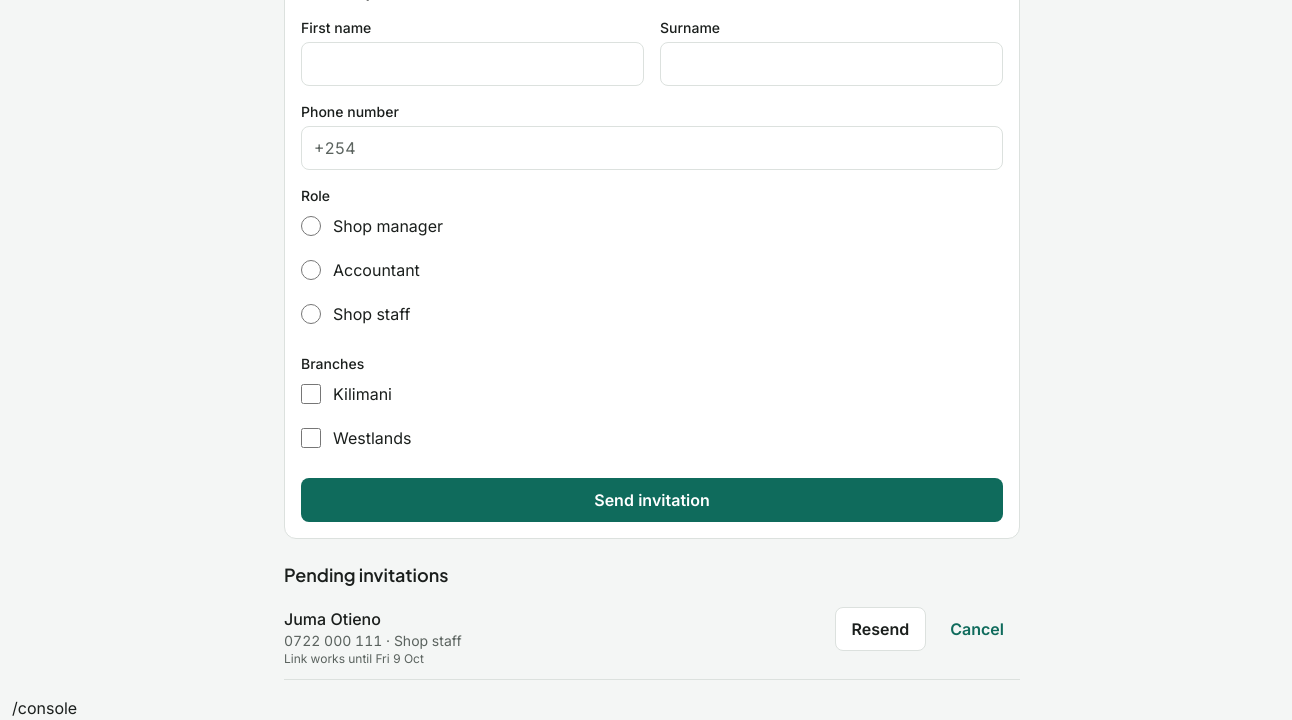
Test: A-41 invite form › checks names, the number and the role before sending
(page scrolled)
What coordinates should you click on to do the following:
click the button "Send invitation"
I would click on:
 (652, 500)
Its box is [301,478,1003,522].
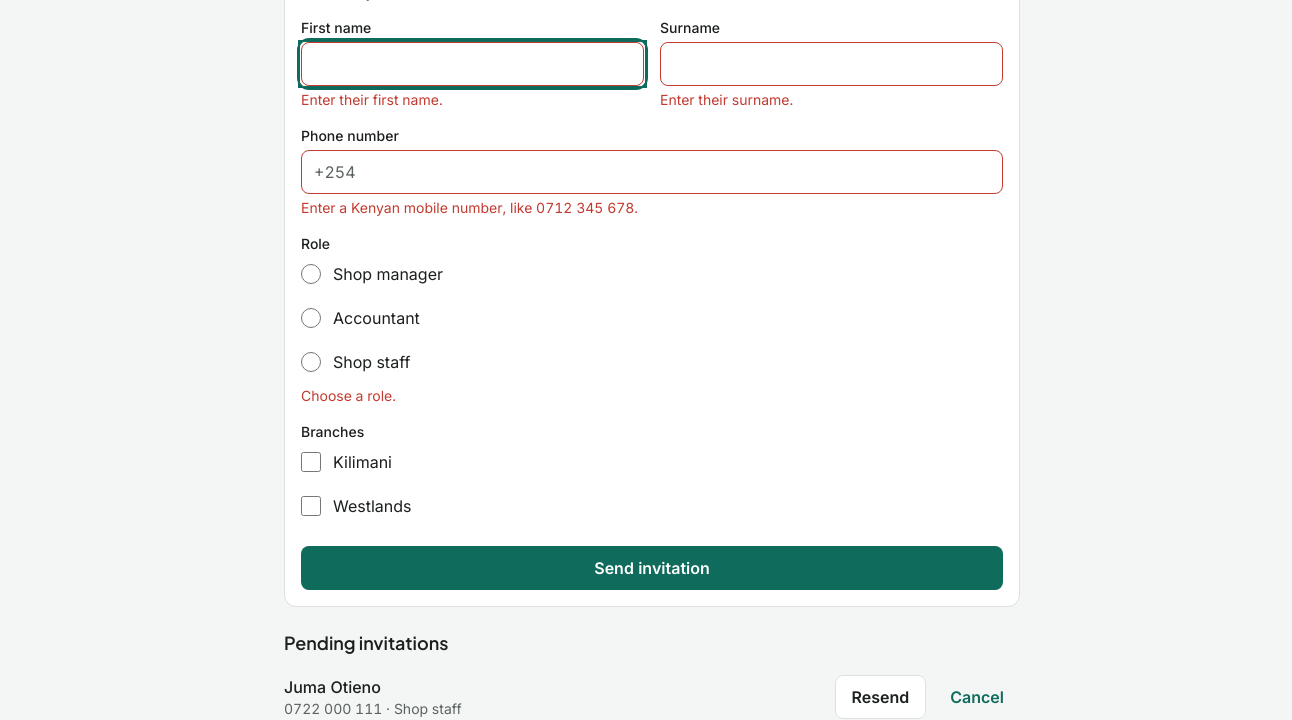
Check: the text "Enter their first name." is shown, box [301,91,443,108]
Check: the text "Enter their surname." is shown, box [660,91,793,108]
Check: the text "Enter a Kenyan mobile number, like 0712 345 678." is shown, box [301,199,638,216]
